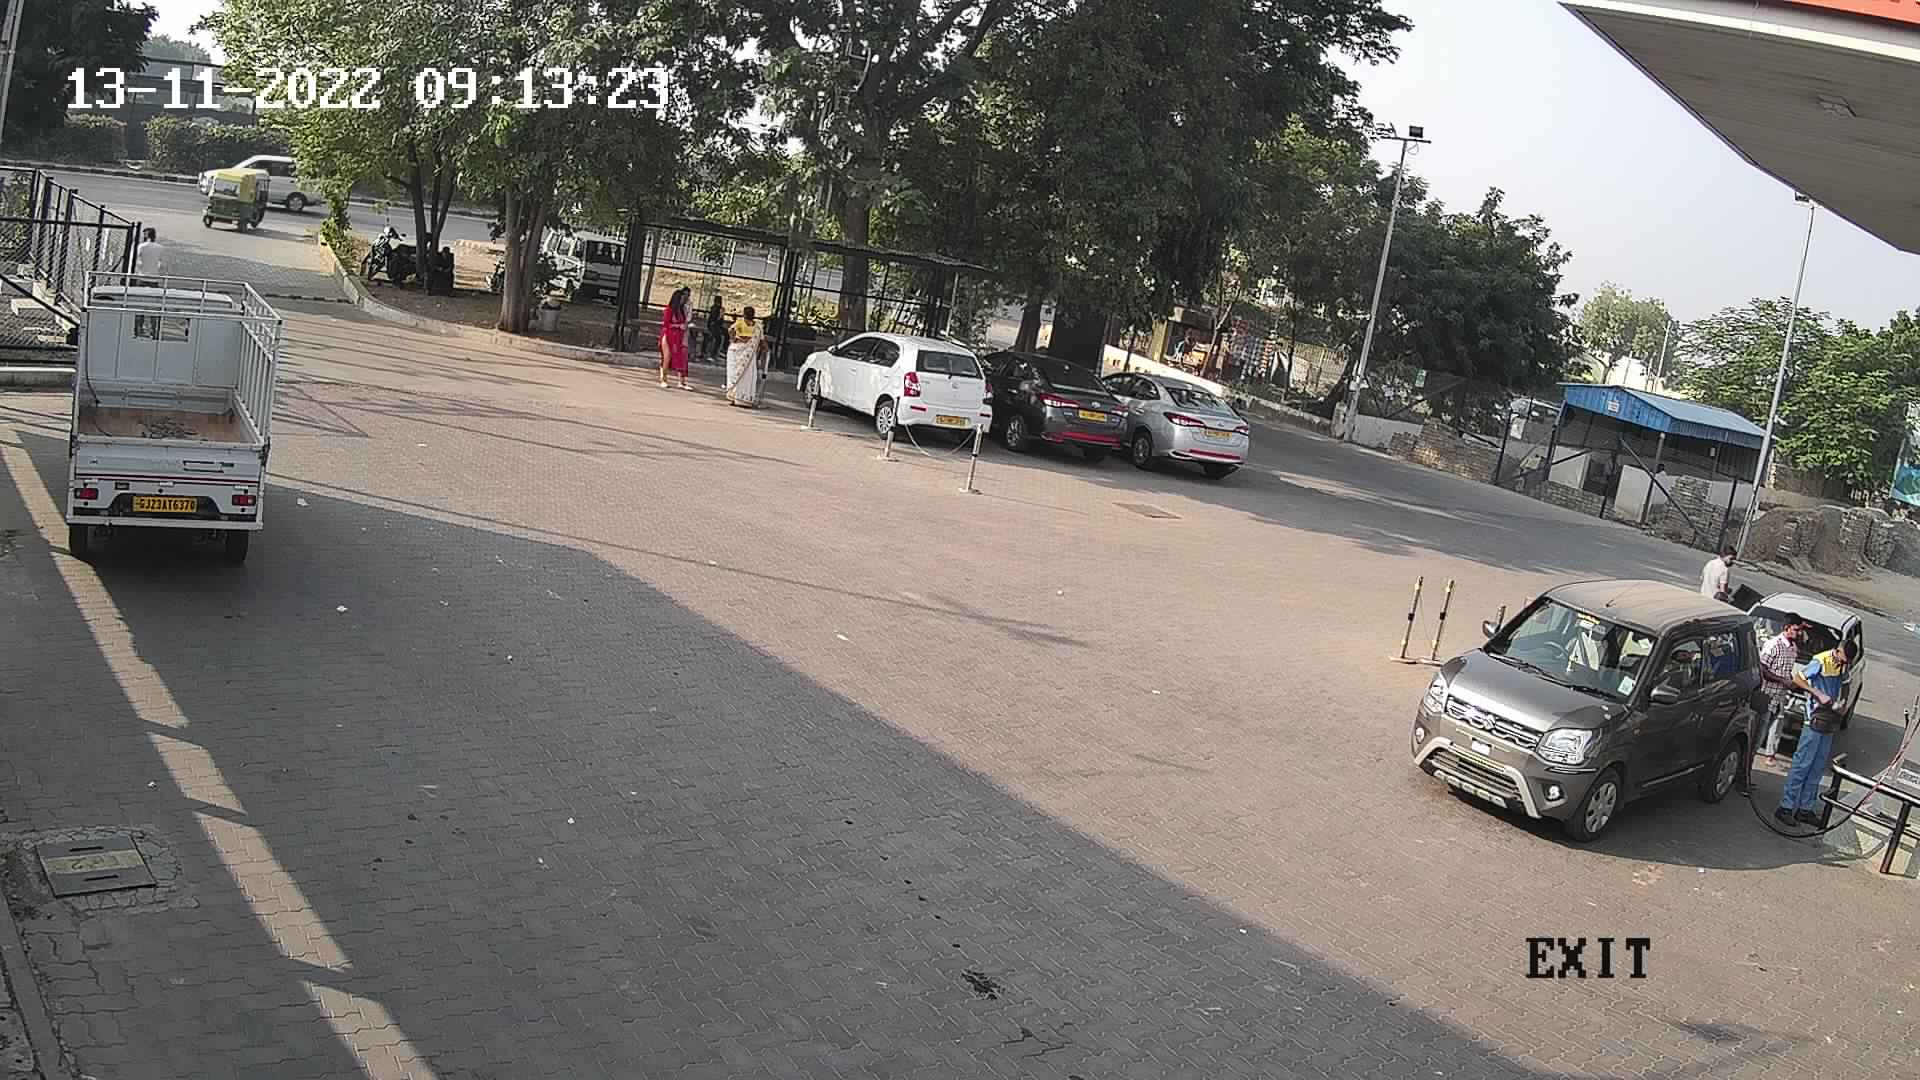Auto: (191, 164, 274, 236)
Bike: (347, 206, 423, 299)
Car: (1399, 560, 1780, 843), (46, 264, 289, 575), (1714, 579, 1876, 764), (790, 315, 1006, 450), (1067, 345, 1263, 479), (969, 340, 1145, 467), (179, 146, 342, 222), (525, 218, 640, 314)
Others: (1768, 626, 1867, 836)
